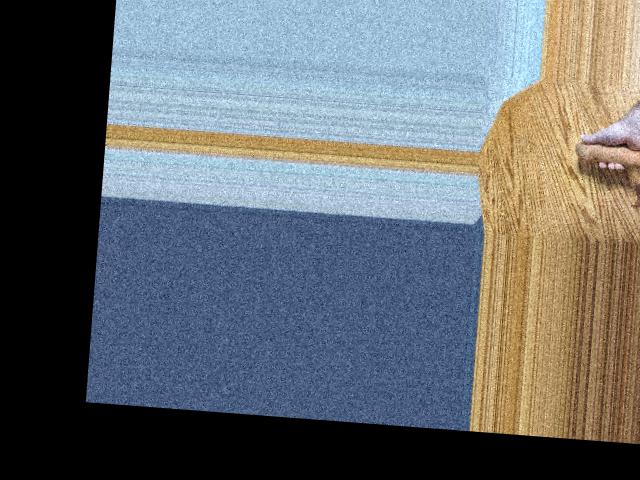sweet_potato: (577, 133, 640, 169)
